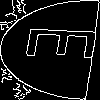E: (25, 25, 100, 63)
